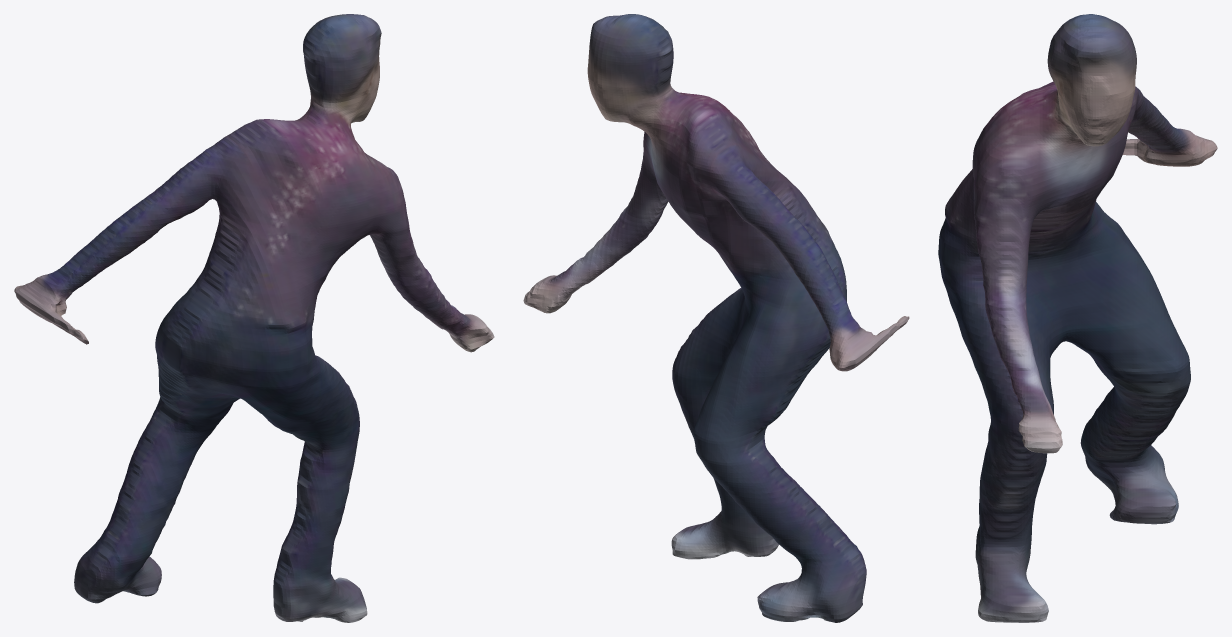
File: 0070_tex.glb
The picture shows the model from 3 angles, left to right: view 1: azimuth 30°, elevation 25°; view 2: azimuth 150°, elevation 25°; view 3: azimuth 270°, elevation 25°; orthographic projection. The views are drawn at different scales.
Visible parts, largest first — view 1: 0070_tex.obj; view 2: 0070_tex.obj; view 3: 0070_tex.obj.
Boxes of the visible parts, left/top/right/bottom form: 0070_tex.obj: left=14, top=14, right=494, bottom=622; 0070_tex.obj: left=523, top=14, right=909, bottom=622; 0070_tex.obj: left=938, top=14, right=1217, bottom=622.
Size of the model in its own units: 0.6805 by 0.9008 by 0.37.
